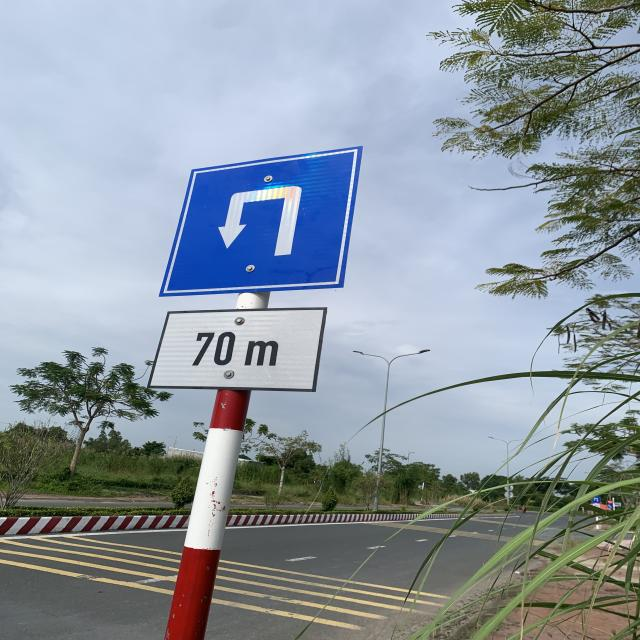Den_Giao_Thong: (162, 146, 364, 293)
